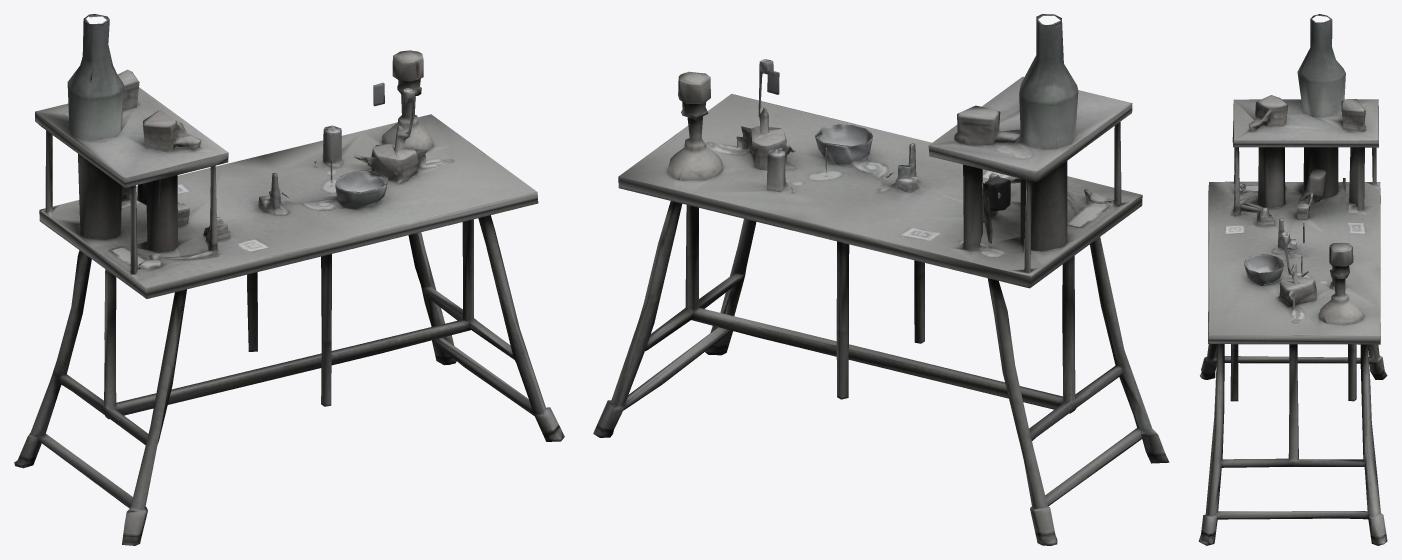
File: lab_table.glb
3 views of the same model, side by side, from view 1: azimuth 30°, elevation 25°; view 2: azimuth 150°, elevation 25°; view 3: azimuth 270°, elevation 25° (orthographic). The views are drawn at different scales.
Visible parts, largest first — view 1: lab_table; view 2: lab_table; view 3: lab_table.
Part boxes in pixels (<box>): lab_table: <box>14,14,564,545</box>; lab_table: <box>593,14,1169,545</box>; lab_table: <box>1198,14,1387,545</box>.
Size of the model in its own units: 0.9982 by 1 by 0.4599.
Materials: 1 (1 with a texture image).
